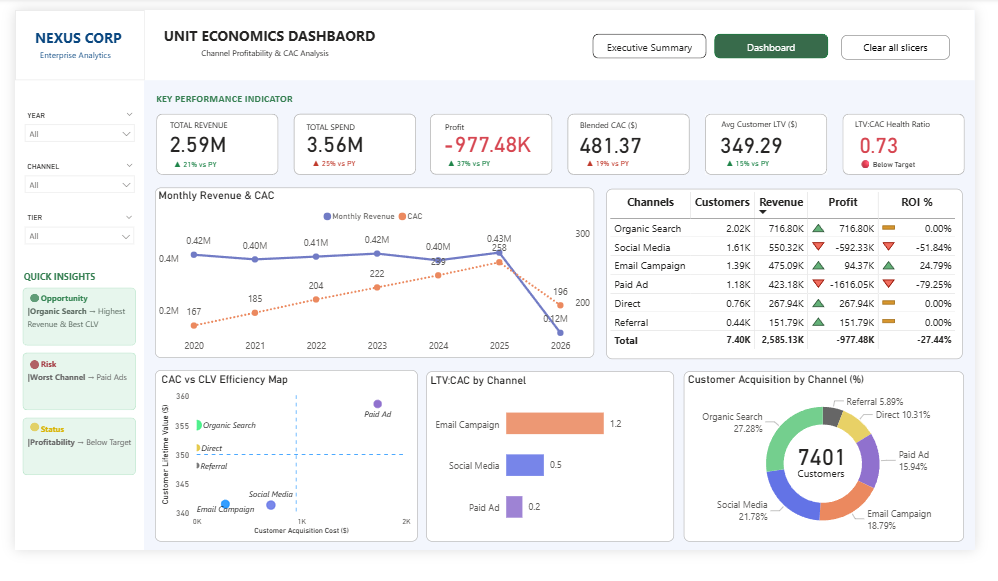

Layout of this report page (visuals, bound fields, positions):
{"tool":"powerbi","page":{"name":"Dashboard","canvas":[1280,720],"ordinal":1},"visuals":[{"type":"shape","box":[0,0,172,720],"z":0},{"type":"shape","box":[920,139,162.9,81.4],"z":1000,"group":"g1"},{"type":"shape","box":[10,543.1,151.2,77],"z":1000},{"type":"shape","box":[1102.8,139,162.9,81.4],"z":2000,"group":"g1"},{"type":"textbox","box":[16.2,374,139.2,67.7],"z":2000},{"type":"shape","box":[9.3,456.8,151.4,77.1],"z":2000,"group":"g5"},{"type":"shape","box":[172.3,0,1107.7,93.8],"z":3000},{"type":"shape","box":[371.4,139,163.1,81.5],"z":3000,"group":"g2"},{"type":"textbox","box":[188.3,108.3,195.8,24.2],"z":4000},{"type":"shape","box":[737.1,139,162.9,81.4],"z":4000,"group":"g1"},{"type":"textbox","box":[15.4,461.9,140,52.3],"z":4000,"group":"g6"},{"type":"textbox","box":[16,548.3,144.6,63.8],"z":4000,"group":"g4"},{"type":"shape","box":[188.6,139,162.9,81.4],"z":5000,"group":"g3"},{"type":"pivotTable","fields":{"Rows":["dim_acquisition_channel.acquisition_channel"],"Values":[" measure.Total Customer Acquired"," measure.Total Revenue"," measure.net profit"," measure.ROI"]},"box":[787.5,237.5,475,227.5],"z":5000},{"type":"textbox","box":[26.7,22.5,128.8,29.6],"z":6000},{"type":"shape","box":[554.3,139,163.1,81.2],"z":6000,"group":"g1"},{"type":"card","fields":{"Values":[" measure.Blended CAC"]},"box":[741.7,165.9,104.6,27.7],"z":7000,"group":"g1"},{"type":"clusteredBarChart","title":"LTV:CAC by Channel","fields":{"Category":["dim_acquisition_channel.acquisition_channel"],"Y":[" measure.Global LTV_CAC Ratio"]},"box":[548.6,482.2,330,227.1],"z":7000},{"type":"card","fields":{"Values":[" measure.total ad spend"]},"box":[366.4,159,120,37],"z":8000,"group":"g2"},{"type":"pieChart","title":"Customer Acquisition by Channel (%)","fields":{"Category":["dim_acquisition_channel.acquisition_channel"],"Y":[" measure.total customer acquired"]},"box":[891.8,481.8,373.6,227.3],"z":8000},{"type":"card","fields":{"Values":[" measure.net profit"]},"box":[563,166,132,26],"z":9000,"group":"g1"},{"type":"scatterChart","title":"CAC vs CLV Efficiency Map","fields":{"Category":["dim_acquisition_channel.acquisition_channel"],"X":[" measure.Blended CAC"],"Y":[" measure.average portfolio"],"Size":[" measure.Total Revenue"]},"box":[187.1,480.8,350,228.6],"z":9000},{"type":"card","fields":{"Values":[" measure.average portfolio"]},"box":[936.2,165.9,90,27.5],"z":10000,"group":"g1"},{"type":"lineChart","title":"Monthly Revenue & CAC","fields":{"Y":[" measure.Total Revenue"],"Y2":[" measure.Blended CAC"],"Category":["Calendar Table.year"]},"box":[187.1,237.1,585.7,227.1],"z":10000},{"type":"textbox","box":[197.5,21.7,300,37.5],"z":11000},{"type":"card","fields":{"Values":[" measure.Total Revenue"]},"box":[188.6,152.6,110.7,51.4],"z":11000,"group":"g3"},{"type":"textbox","box":[210,40.8,206.2,30.8],"z":12000},{"type":"card","fields":{"Values":[" measure.Global LTV_CAC Ratio"]},"box":[1122.4,165.9,60,27.7],"z":12000,"group":"g1"},{"type":"slicer","fields":{"Values":["Calendar Table.year"]},"box":[7.9,130,156.4,67.9],"z":13000},{"type":"textbox","box":[573,144.9,133.1,17.7],"z":14000,"group":"g1"},{"type":"slicer","fields":{"Values":["dim_acquisition_channel.acquisition_channel"]},"box":[7.9,197.9,156.4,68.6],"z":14000},{"type":"slicer","fields":{"Values":["dim_customers.membership_tier"]},"box":[7.9,267.1,155.7,67.9],"z":15000},{"type":"shape","box":[0,0,173.1,93.8],"z":16000},{"type":"textbox","box":[753.8,144,90.7,18.7],"z":16000,"group":"g1"},{"type":"textbox","box":[33.3,49.6,106.2,19.2],"z":17000},{"type":"textbox","box":[1119.9,143.2,107.3,18.7],"z":18000,"group":"g1"},{"type":"card","title":"Customers ","fields":{"Values":[" measure.Total Customer Acquired"]},"box":[1035,580,81.2,28.8],"z":18000},{"type":"textbox","box":[1042.7,609.1,73.6,23.6],"z":19000},{"type":"group","id":"g1","title":"Group 3","box":[188.6,139,1077.1,81.5],"z":20000},{"type":"card","fields":{"Values":[" measure.Profit YoY Insight"]},"box":[562.8,197.5,83.3,15],"z":20000,"group":"g1"},{"type":"textbox","box":[388.9,145.2,79.4,18.8],"z":20001,"group":"g2"},{"type":"textbox","box":[11.2,344.7,128.8,24.1],"z":21000},{"type":"textbox","box":[942,143.2,119.3,18.7],"z":22000,"group":"g1"},{"type":"textbox","box":[207.3,144.3,85,18],"z":22000,"group":"g3"},{"type":"shape","box":[10,370,151.2,77.5],"z":22000},{"type":"group","id":"g2","title":"Group 1","box":[366.4,139,168.1,81.5],"z":23000,"group":"g1"},{"type":"shape","box":[19.2,378.5,12.3,11.5],"z":23000},{"type":"group","id":"g3","title":"Group 2","box":[188.6,139,162.9,81.4],"z":24000,"group":"g1"},{"type":"card","fields":{"Values":[" measure.Spend YoY Insight"]},"box":[383.1,197.3,83.3,15],"z":24000,"group":"g2"},{"type":"group","id":"g4","title":"Group 5","box":[16,548.3,144.6,63.8],"z":24000},{"type":"card","fields":{"Values":[" measure.Revenue YoY Insight"]},"box":[197.8,198.2,83.5,15.9],"z":25000,"group":"g3"},{"type":"group","id":"g5","title":"Group 6","box":[9.3,456.8,151.4,77.1],"z":25000},{"type":"card","fields":{"Values":[" measure.Blended CAC"]},"box":[748.6,197.5,83.3,15],"z":26000,"group":"g1"},{"type":"pageNavigator","box":[770.6,31.9,315.3,33.1],"z":27000},{"type":"group","id":"g6","title":"Group 4","box":[15.4,461.9,140,52.3],"z":27000,"group":"g5"},{"type":"textbox","box":[243.6,41.8,220,30],"z":28000},{"type":"card","fields":{"Values":[" measure.CLV YoY Insight"]},"box":[936.1,197.5,83.3,15],"z":28000,"group":"g1"},{"type":"shape","box":[19.2,466.5,12.3,12.3],"z":28000,"group":"g6"},{"type":"shape","box":[19,550.6,12.5,12],"z":28000,"group":"g4"},{"type":"actionButton","box":[1101.2,33.8,145,32.5],"z":29000},{"type":"card","fields":{"Values":[" measure.LTV CAC Status Icon"]},"box":[1121.1,198.3,86.7,15.8],"z":30000,"group":"g1"}]}

Visuals, with their boxes on the page's 1280x720 design canvas (x1, y1, x2, y2). These are canvas units, not pixel positions in the 998x581 screenshot, which may show the page scaled, cropped or inside an application window:
shape: locate(0, 0, 172, 720)
shape: locate(920, 139, 1083, 220)
shape: locate(10, 543, 161, 620)
shape: locate(1103, 139, 1266, 220)
textbox: locate(16, 374, 155, 442)
shape: locate(9, 457, 161, 534)
shape: locate(172, 0, 1280, 94)
shape: locate(371, 139, 534, 220)
textbox: locate(188, 108, 384, 132)
shape: locate(737, 139, 900, 220)
textbox: locate(15, 462, 155, 514)
textbox: locate(16, 548, 161, 612)
shape: locate(189, 139, 352, 220)
pivotTable - dim_acquisition_channel.acquisition_channel x  measure.Total Customer Acquired: locate(788, 238, 1262, 465)
textbox: locate(27, 22, 156, 52)
shape: locate(554, 139, 717, 220)
card -  measure.Blended CAC: locate(742, 166, 846, 194)
"LTV:CAC by Channel" clusteredBarChart: locate(549, 482, 879, 709)
card -  measure.total ad spend: locate(366, 159, 486, 196)
"Customer Acquisition by Channel (%)" pieChart: locate(892, 482, 1265, 709)
card -  measure.net profit: locate(563, 166, 695, 192)
"CAC vs CLV Efficiency Map" scatterChart: locate(187, 481, 537, 709)
card -  measure.average portfolio: locate(936, 166, 1026, 193)
"Monthly Revenue & CAC" lineChart: locate(187, 237, 773, 464)
textbox: locate(198, 22, 498, 59)
card -  measure.Total Revenue: locate(189, 153, 299, 204)
textbox: locate(210, 41, 416, 72)
card -  measure.Global LTV_CAC Ratio: locate(1122, 166, 1182, 194)
slicer - Calendar Table.year: locate(8, 130, 164, 198)
textbox: locate(573, 145, 706, 163)
slicer - dim_acquisition_channel.acquisition_channel: locate(8, 198, 164, 266)
slicer - dim_customers.membership_tier: locate(8, 267, 164, 335)
shape: locate(0, 0, 173, 94)
textbox: locate(754, 144, 844, 163)
textbox: locate(33, 50, 140, 69)
textbox: locate(1120, 143, 1227, 162)
"Customers " card: locate(1035, 580, 1116, 609)
textbox: locate(1043, 609, 1116, 633)
"Group 3" group: locate(189, 139, 1266, 220)
card -  measure.Profit YoY Insight: locate(563, 198, 646, 212)
textbox: locate(389, 145, 468, 164)
textbox: locate(11, 345, 140, 369)
textbox: locate(942, 143, 1061, 162)
textbox: locate(207, 144, 292, 162)
shape: locate(10, 370, 161, 448)
"Group 1" group: locate(366, 139, 534, 220)
shape: locate(19, 378, 32, 390)
"Group 2" group: locate(189, 139, 352, 220)
card -  measure.Spend YoY Insight: locate(383, 197, 466, 212)
"Group 5" group: locate(16, 548, 161, 612)
card -  measure.Revenue YoY Insight: locate(198, 198, 281, 214)
"Group 6" group: locate(9, 457, 161, 534)
card -  measure.Blended CAC: locate(749, 198, 832, 212)
pageNavigator: locate(771, 32, 1086, 65)
"Group 4" group: locate(15, 462, 155, 514)
textbox: locate(244, 42, 464, 72)
card -  measure.CLV YoY Insight: locate(936, 198, 1019, 212)
shape: locate(19, 466, 32, 479)
shape: locate(19, 551, 32, 563)
actionButton: locate(1101, 34, 1246, 66)
card -  measure.LTV CAC Status Icon: locate(1121, 198, 1208, 214)
